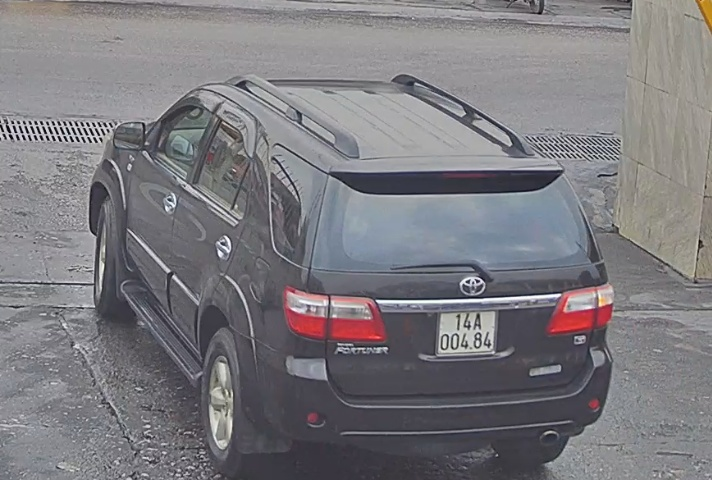vehicle plate: (432, 307, 494, 358)
